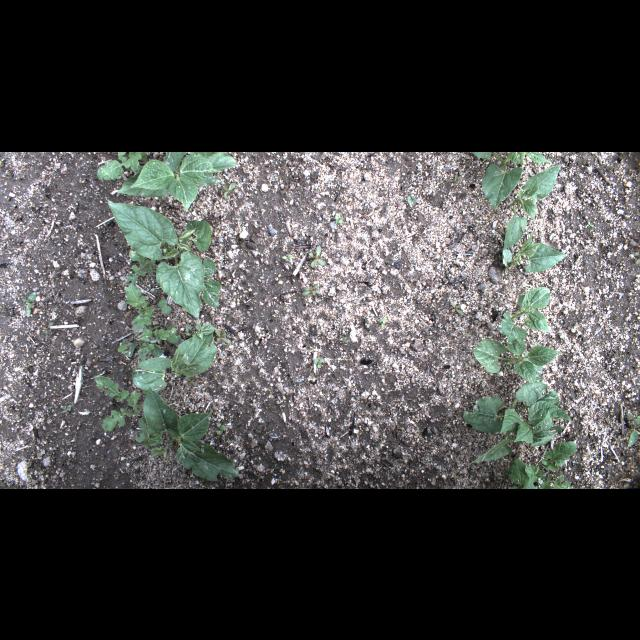crop: (108, 202, 220, 318), (140, 388, 240, 482), (461, 382, 571, 466), (116, 152, 238, 212), (499, 163, 561, 251), (470, 151, 552, 211), (134, 333, 216, 389), (473, 337, 563, 381), (498, 285, 552, 343), (499, 232, 567, 278), (184, 323, 212, 335), (527, 478, 537, 488)
weed: (502, 438, 578, 488), (94, 374, 140, 432), (118, 326, 180, 360), (125, 276, 154, 334), (134, 412, 166, 460), (96, 151, 148, 179), (124, 252, 156, 284), (625, 412, 639, 448), (307, 244, 325, 268), (22, 293, 36, 315), (219, 182, 235, 198), (216, 326, 230, 344), (158, 299, 172, 317), (450, 300, 464, 316), (300, 284, 320, 294), (43, 320, 55, 336), (214, 422, 226, 436), (180, 375, 196, 385), (378, 314, 388, 328), (312, 357, 324, 368), (451, 173, 459, 187), (61, 405, 71, 415), (630, 232, 638, 244), (340, 333, 350, 342), (334, 214, 344, 223), (634, 251, 640, 265), (408, 195, 418, 203), (281, 254, 293, 260), (0, 157, 6, 165), (588, 220, 594, 227), (574, 320, 578, 328), (46, 312, 50, 318), (70, 403, 74, 409)
